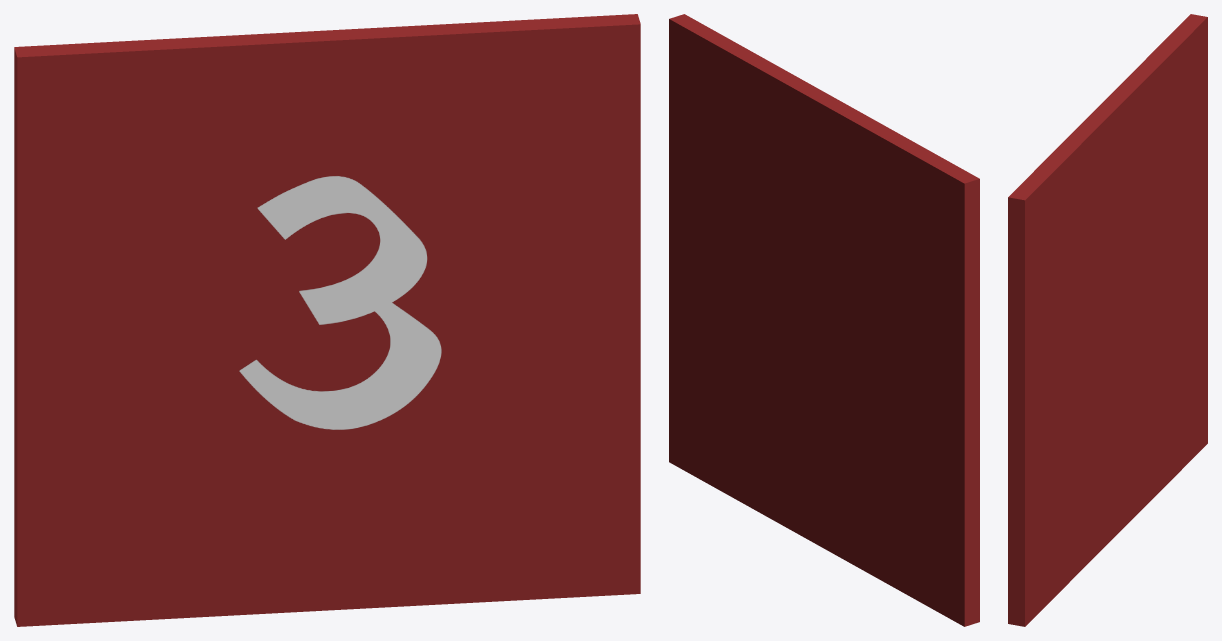
File: flap02.glb
3 renders of one model, left to right at view 1: azimuth 30°, elevation 25°; view 2: azimuth 150°, elevation 25°; view 3: azimuth 270°, elevation 25°, orthographic. The views are drawn at different scales.
Parts seen in each view (by area): view 1: flap.002; view 2: flap.002; view 3: flap.002.
Part boxes in pixels (x1,y1,x2,y2): flap.002: [14, 14, 640, 626]; flap.002: [669, 14, 979, 626]; flap.002: [1008, 14, 1207, 626].
Bounding box in the file's own units: 0.2342 × 0.25 × 0.1061.
Materials: 1 (1 with a texture image).
